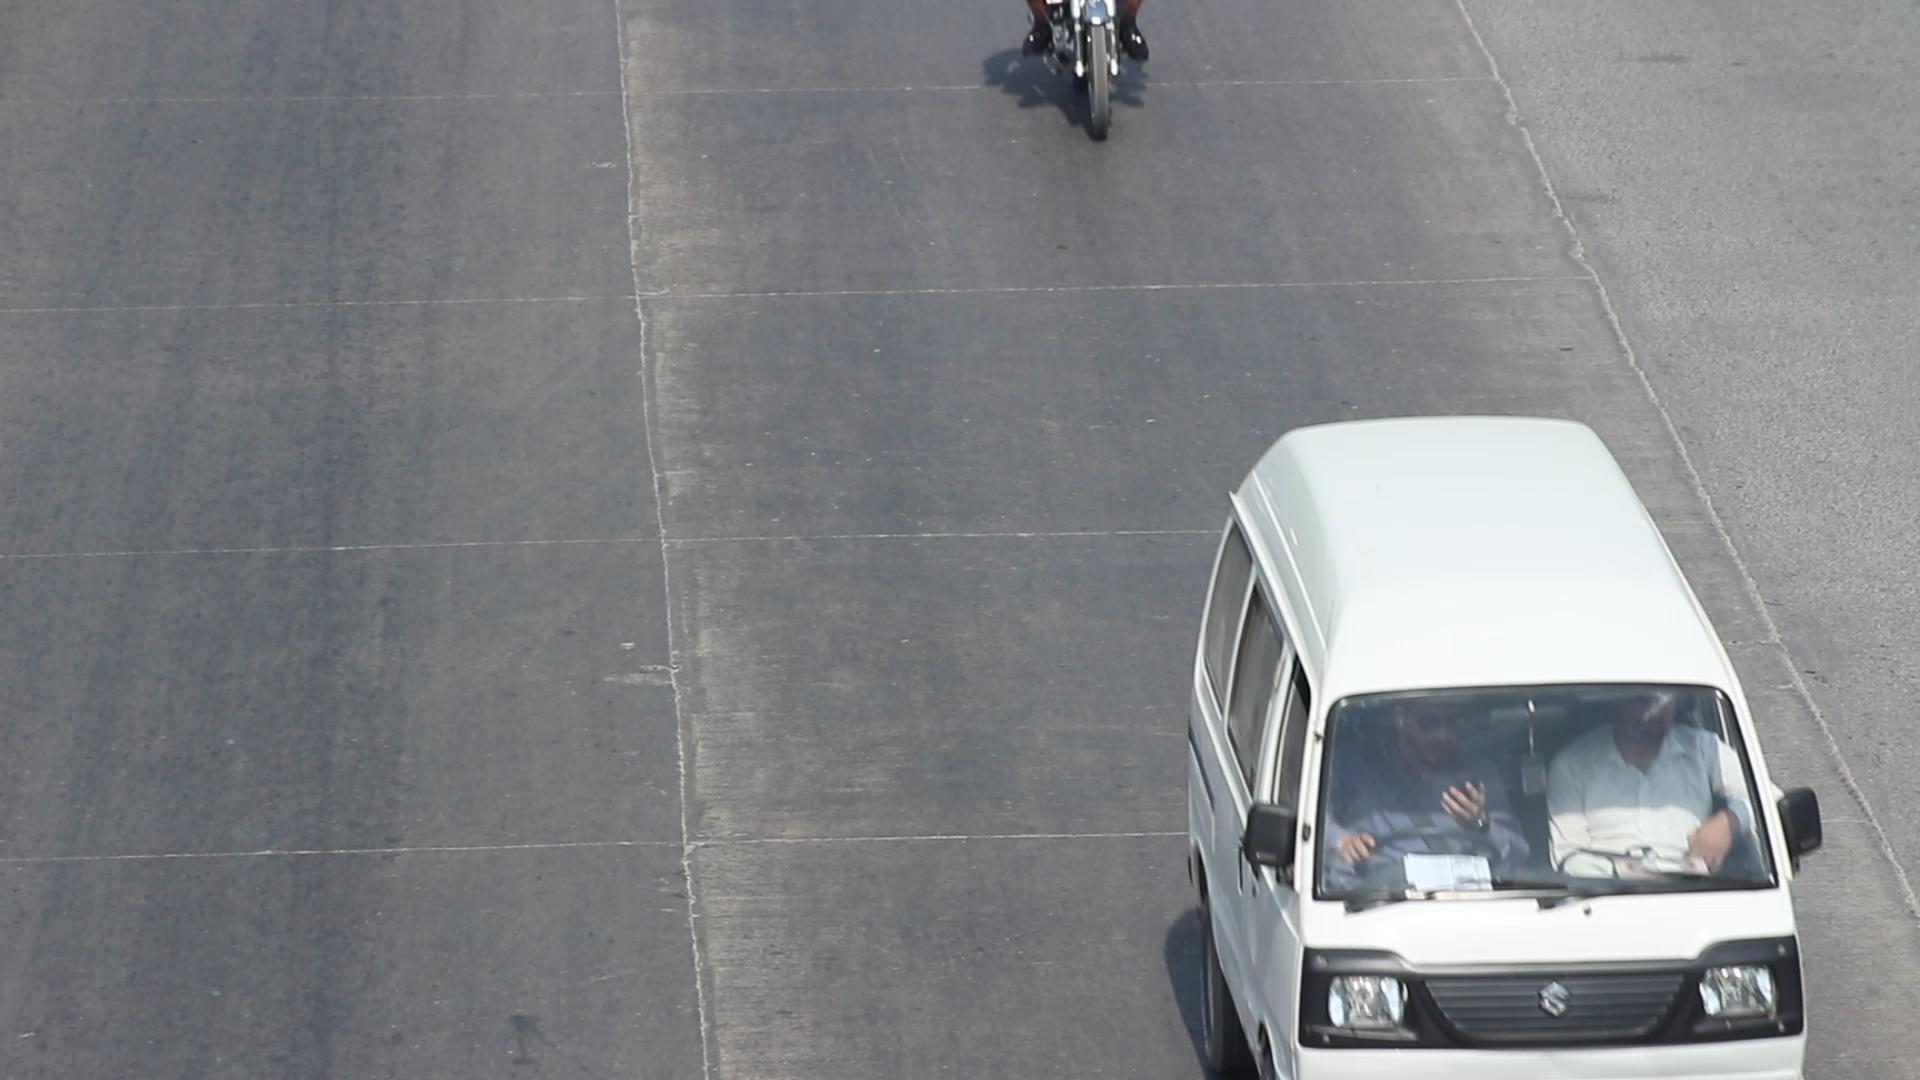windshield: (1298, 670, 1797, 930)
